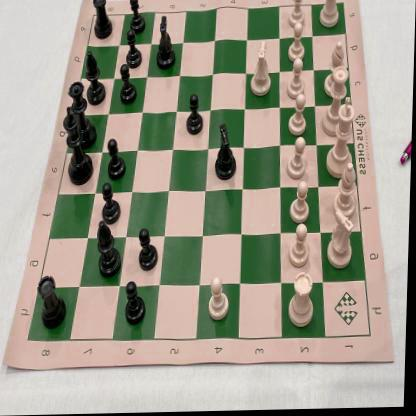black-bishop: (97, 222, 124, 280), (85, 50, 106, 108)
black-king: (63, 106, 96, 188)
black-knight: (214, 121, 239, 182), (156, 16, 178, 70)
black-pawn: (138, 228, 161, 274), (126, 280, 148, 326), (100, 184, 122, 224), (108, 137, 128, 181), (186, 93, 206, 136), (120, 64, 138, 106), (126, 29, 144, 70), (128, 0, 146, 35)
black-queen: (66, 80, 99, 150)
black-rook: (38, 274, 71, 330), (93, 0, 113, 40)
white-bishop: (334, 165, 359, 221), (324, 42, 346, 99)
white-king: (327, 98, 356, 178)
white-knight: (328, 211, 358, 271), (251, 41, 273, 102)
white-pawn: (210, 276, 232, 324), (290, 224, 312, 268), (291, 180, 312, 224), (288, 138, 308, 180), (289, 95, 308, 136), (288, 61, 306, 100), (288, 24, 305, 62), (289, 0, 305, 29)
white-queen: (322, 66, 350, 138)
white-rook: (290, 272, 318, 330), (320, 0, 340, 29)
